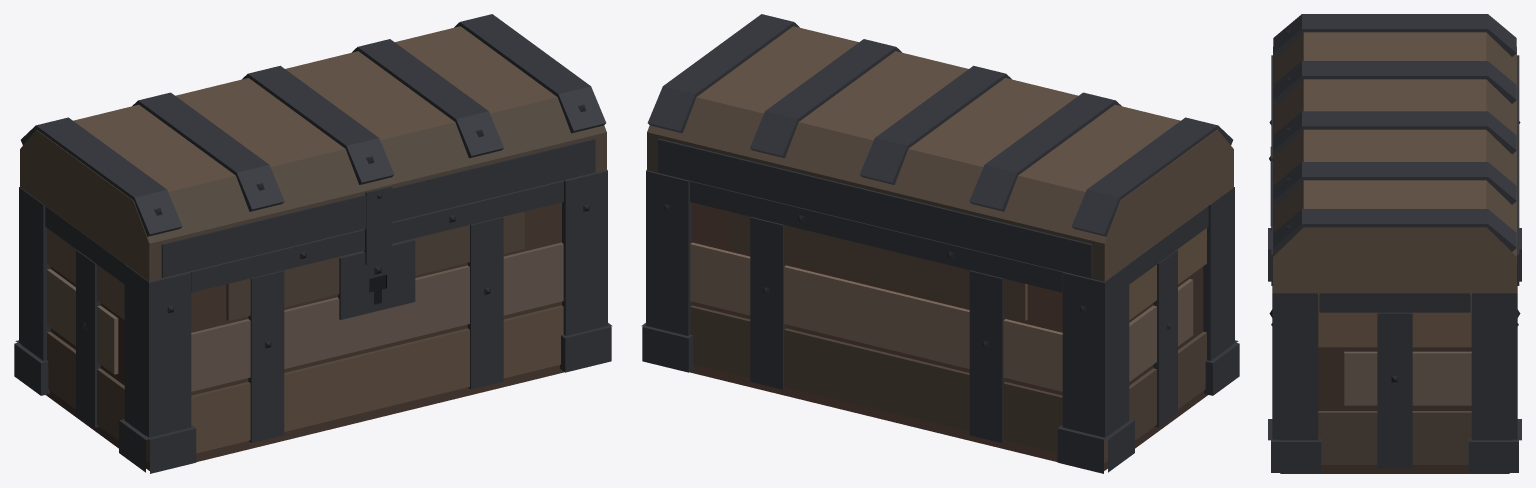
Rendered from iron-banded-strongbox-698383.glb.
3 views of the same model, side by side, from view 1: azimuth 30°, elevation 25°; view 2: azimuth 150°, elevation 25°; view 3: azimuth 270°, elevation 25° (orthographic). The views are drawn at different scales.
Visible parts, largest first — view 1: strongbox-body, lid-mesh, hasp-mesh; view 2: strongbox-body, lid-mesh; view 3: lid-mesh, strongbox-body.
Boxes of the visible parts, x1,y1,x2,y2 form: strongbox-body: [14, 170, 612, 473]; lid-mesh: [20, 14, 606, 281]; hasp-mesh: [364, 186, 392, 265]; strongbox-body: [641, 170, 1239, 473]; lid-mesh: [647, 14, 1233, 281]; lid-mesh: [1271, 14, 1519, 292]; strongbox-body: [1268, 120, 1521, 473].
Size of the model in its own units: 1 by 0.5493 by 0.5001.
